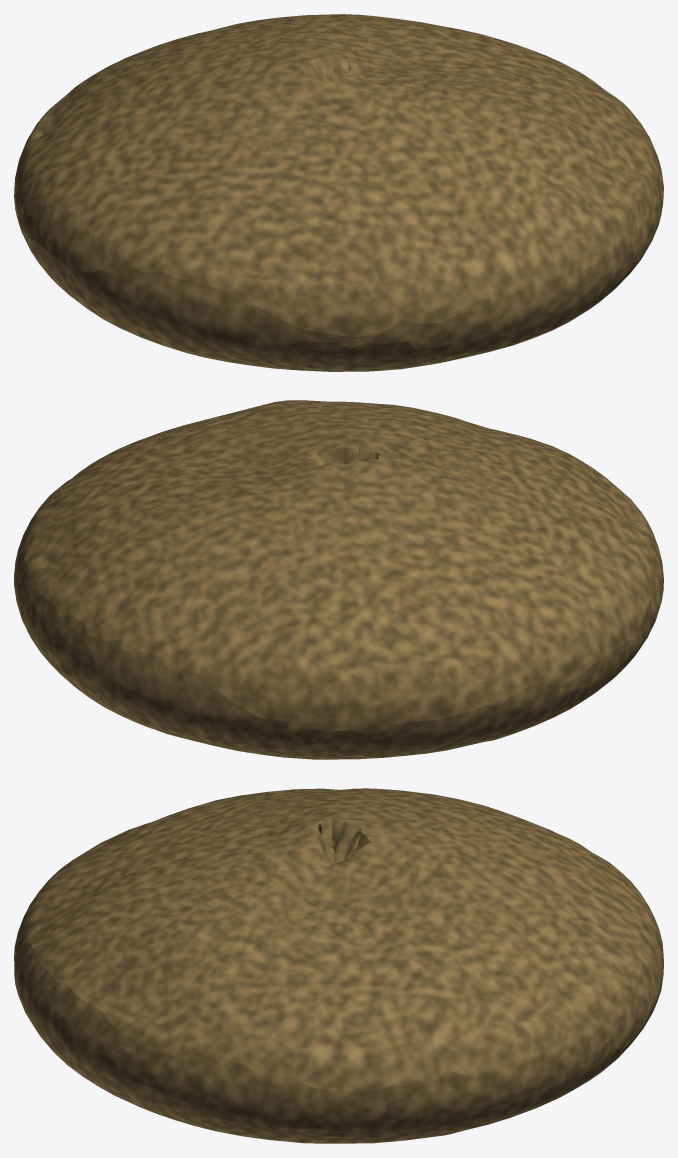
File: tex_mesh.glb
The picture shows the model from 3 angles, top to bottom: view 1: azimuth 30°, elevation 25°; view 2: azimuth 150°, elevation 25°; view 3: azimuth 270°, elevation 25°; orthographic projection.
Parts seen in each view (by area): view 1: world; view 2: world; view 3: world.
Part boxes in pixels (box(x1,y1,x2,y2)): world: box(14, 14, 663, 371); world: box(14, 400, 663, 759); world: box(14, 788, 663, 1143).
Size of the model in its own units: 0.0065 by 0.00241 by 0.0065.
1 material, 1 textured.
